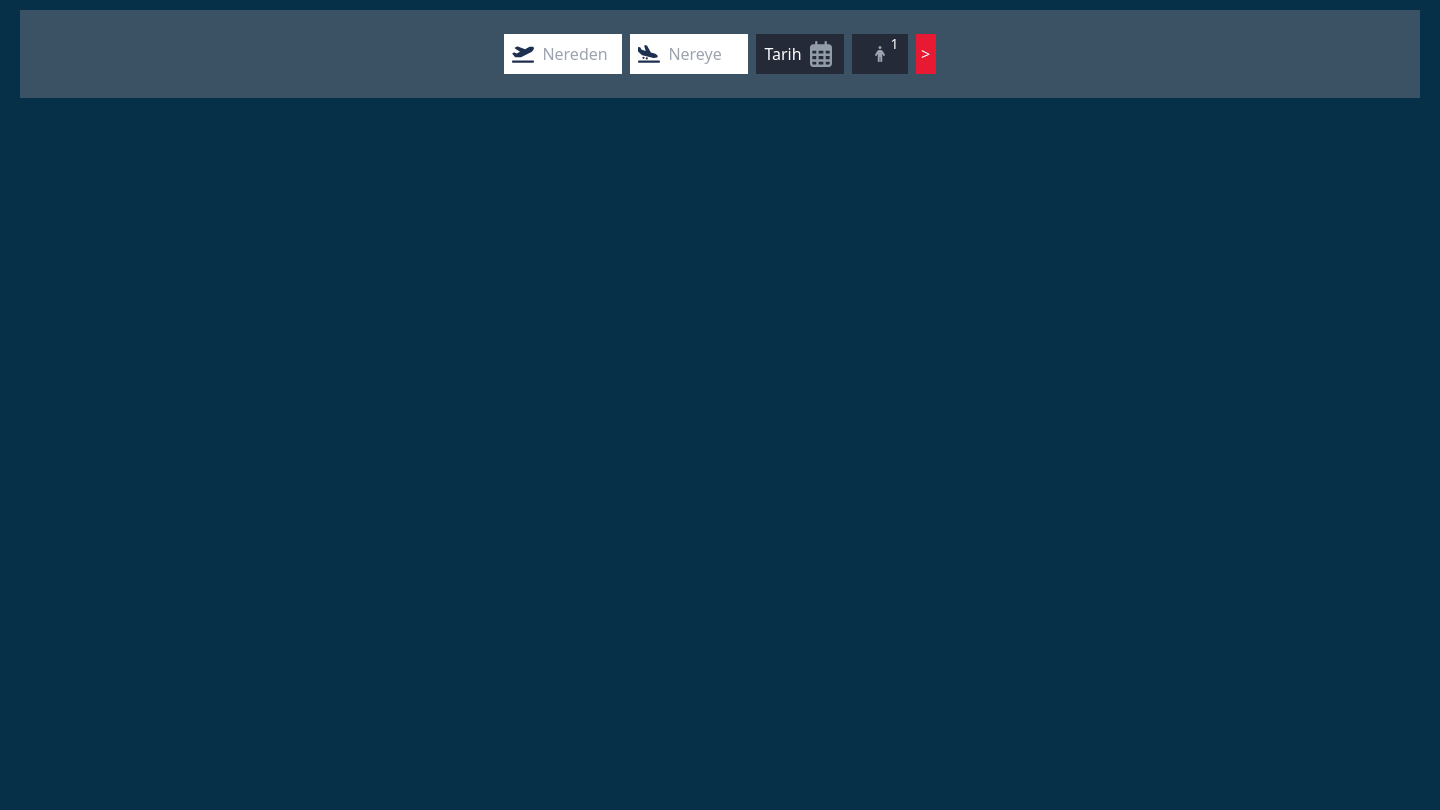
Selection without inputs
Expected: the field with placeholder "Nereden" is shown, x1=538 y1=38 x2=618 y2=70
Expected: the field with placeholder "Nereye" is shown, x1=664 y1=38 x2=744 y2=70
Click the button with test id "selection-submit": (926, 54) x1=916 y1=34 x2=936 y2=74
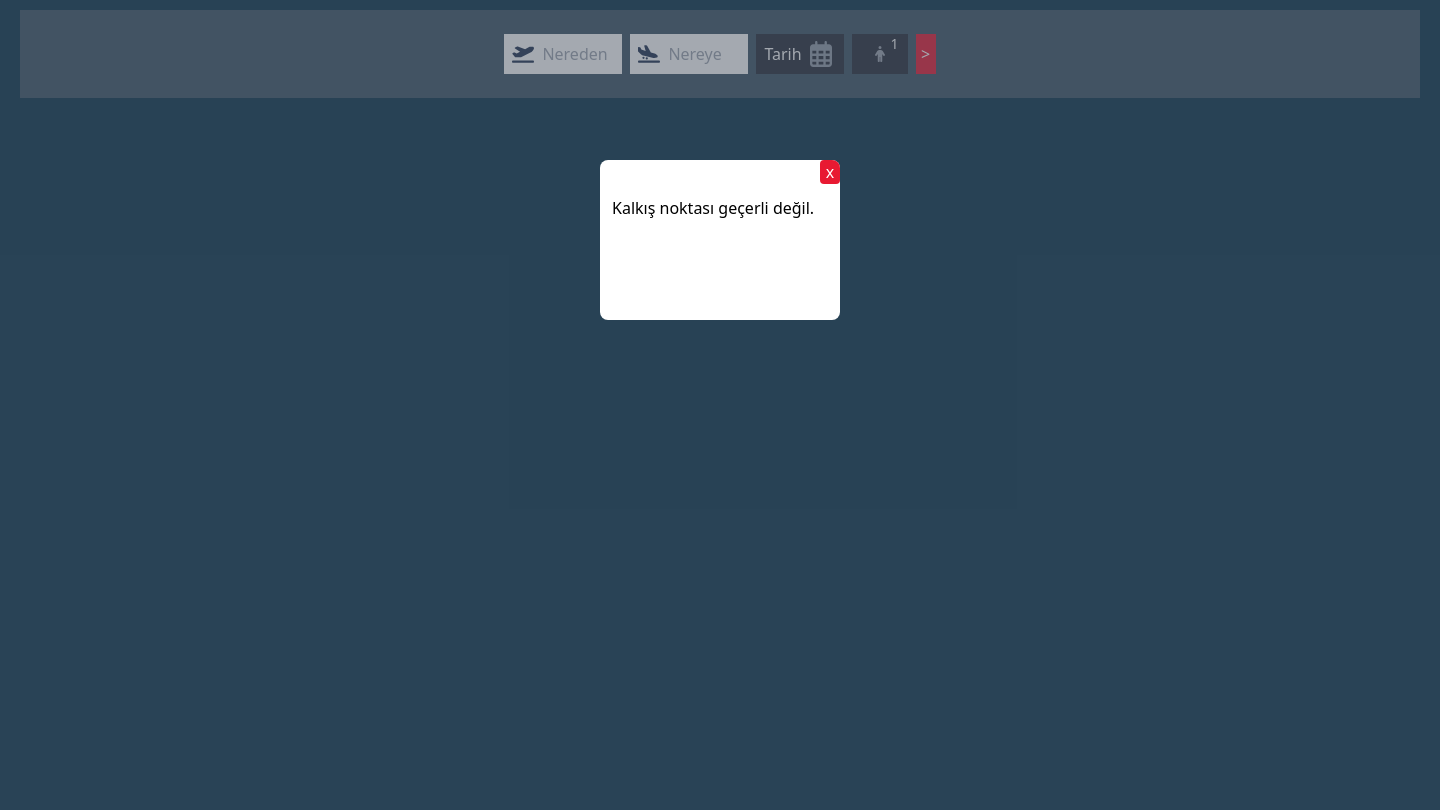
Now the element with test id "modal-selection" is shown
Now the text "Kalkış noktası geçerli değil." is shown, box x1=612 y1=197 x2=814 y2=219
